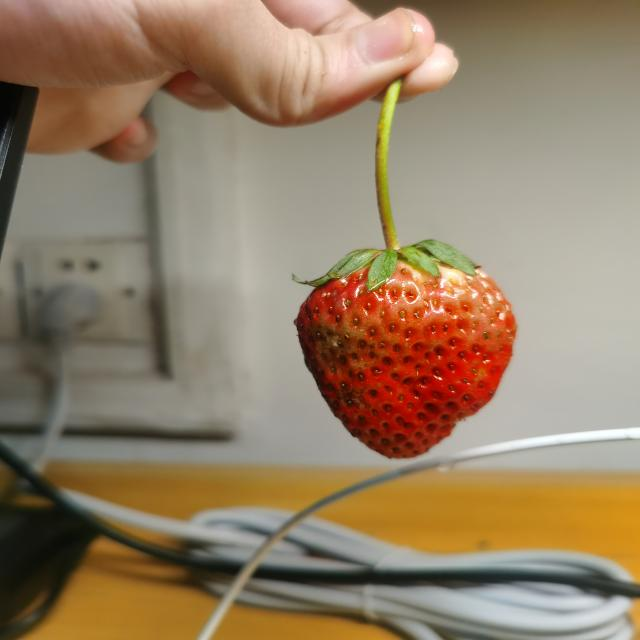stem: (375, 149, 403, 254)
strawberry: (294, 240, 518, 459)
